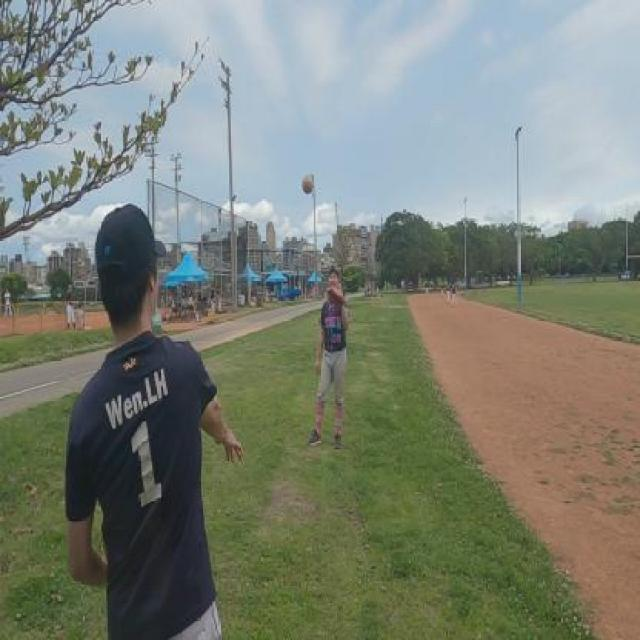ball: (301, 173, 315, 194)
